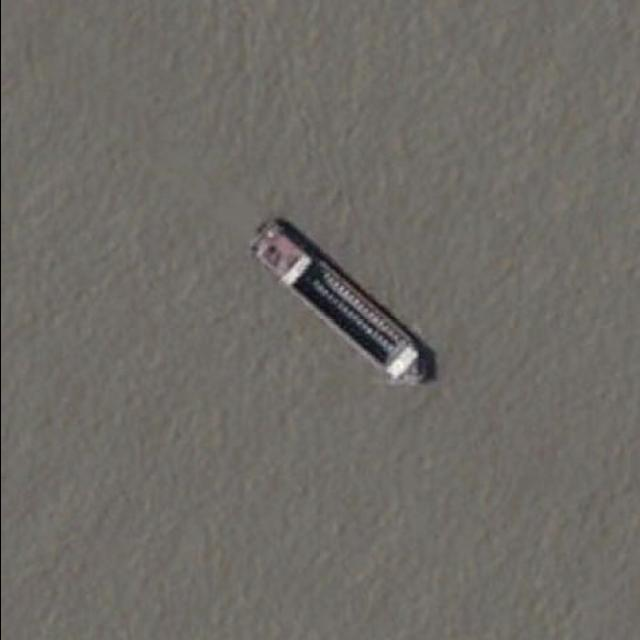ship: (244, 215, 438, 393)
